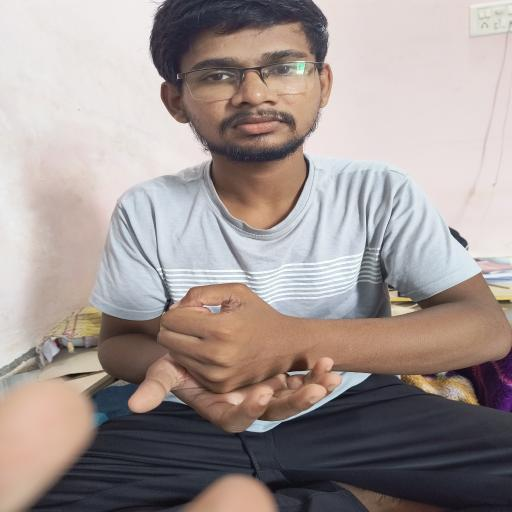Next: (126, 264, 367, 442)
